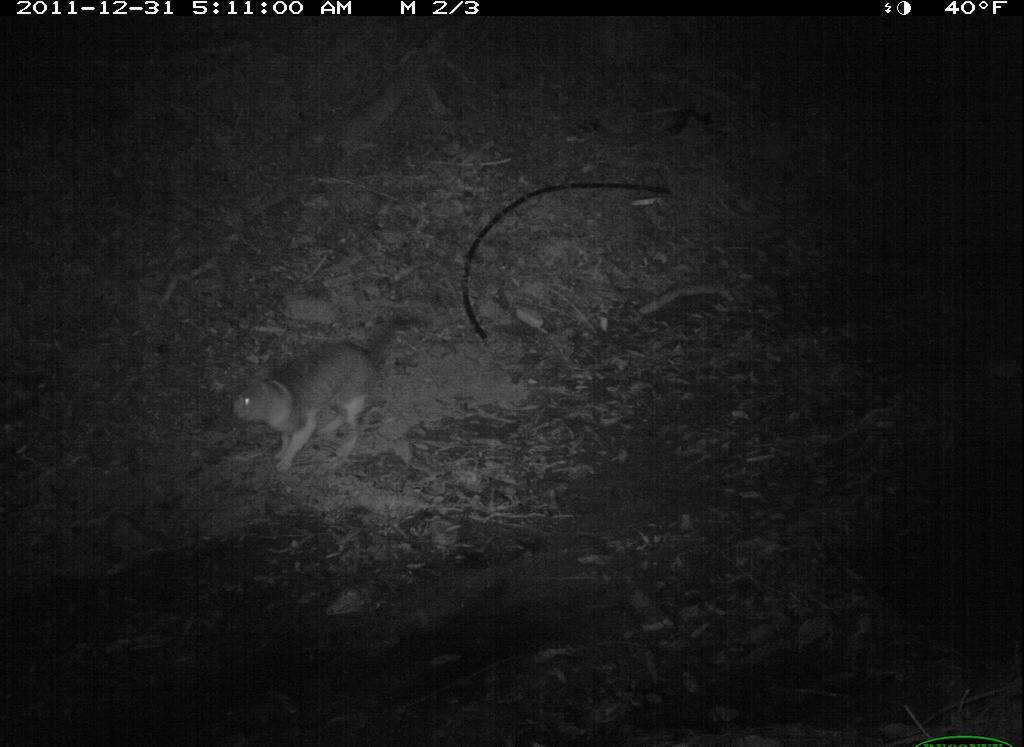cat: (231, 312, 431, 474)
